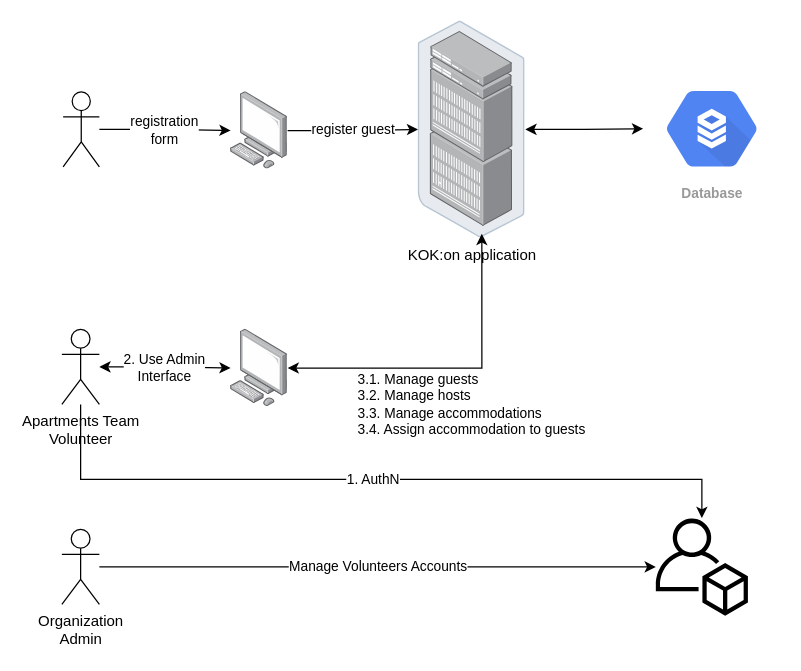
Image size: 801x671. Some labels were removed from this diagram. The centre of each missing label's shape, as x and y in pixels:
"Identity Portal" belongs at point 701,566.
"Reception Volunteer" belongs at point 80,129.
